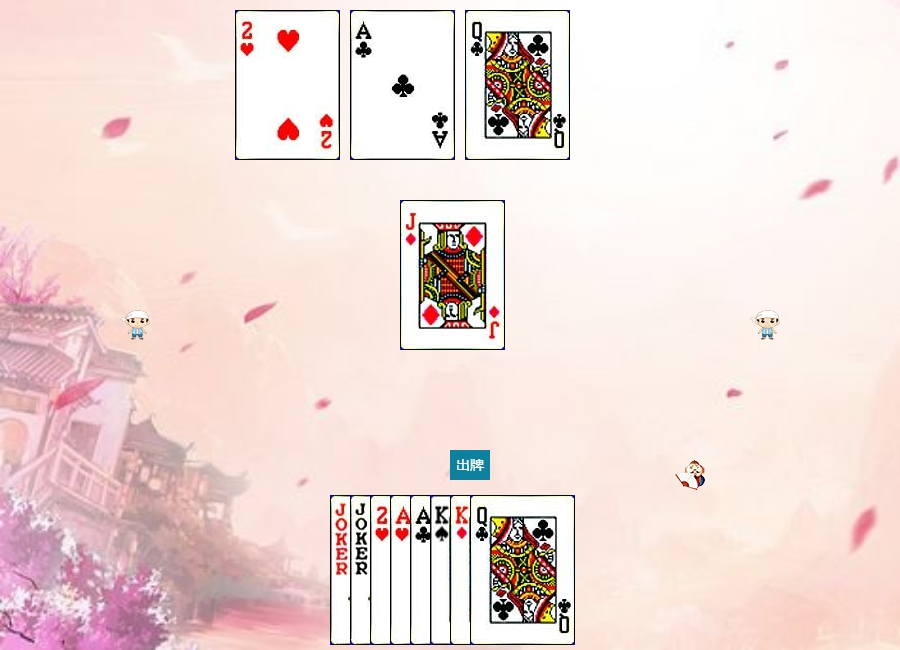11~1: (400, 200, 505, 350)
12~2: (465, 10, 570, 160), (470, 495, 575, 645)
13~1: (450, 495, 555, 645)
13~4: (430, 495, 535, 645)
14~2: (350, 10, 455, 160), (410, 495, 515, 645)
14~3: (390, 495, 495, 645)
15~3: (235, 10, 340, 160), (370, 495, 475, 645)
17~3: (350, 495, 455, 645)
18~4: (330, 495, 435, 645)
